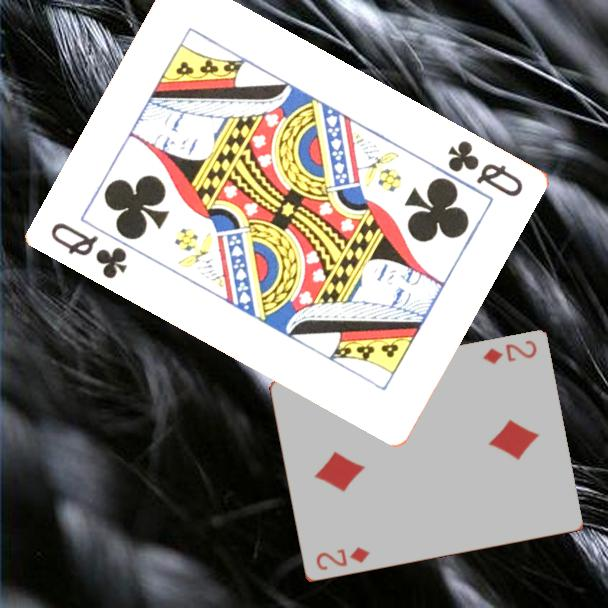c12: (47, 218, 131, 282), (444, 136, 527, 200)
d02: (479, 337, 539, 368), (312, 544, 372, 574)
